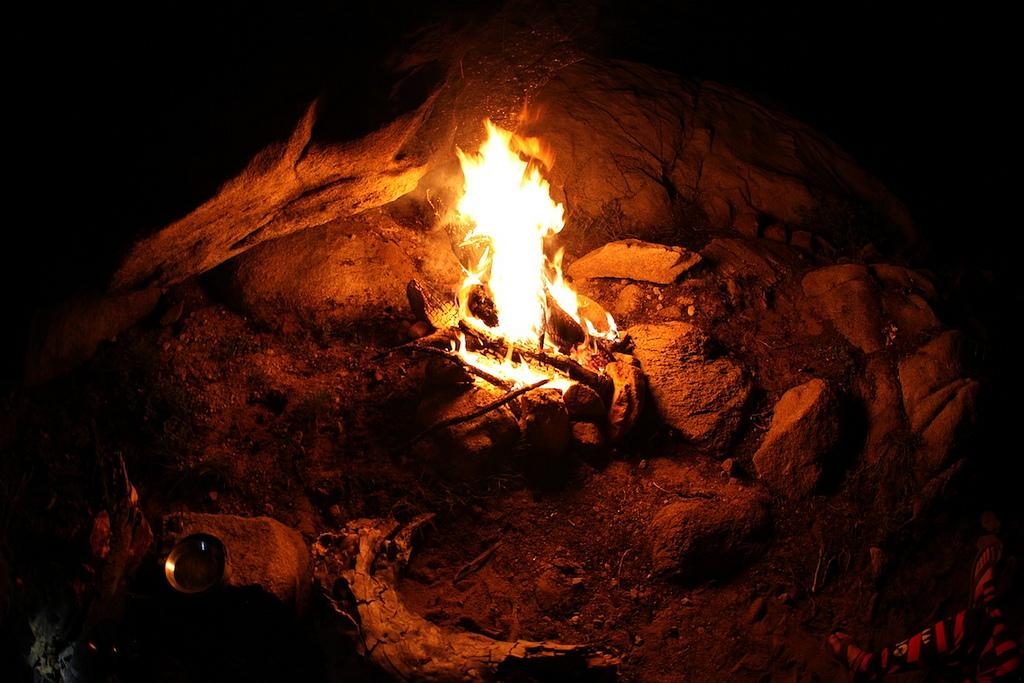fire: (478, 153, 563, 335)
